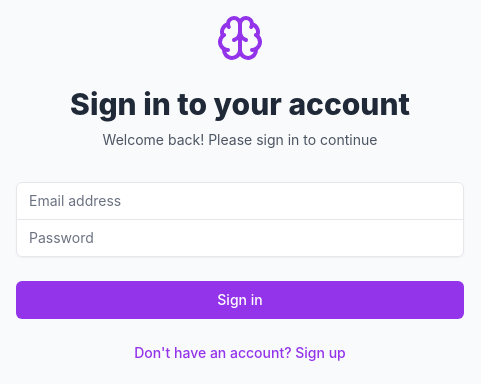
AuthForm › Sign Up › should switch to sign up form
What coordinates should you click on to do the following:
click the button "Don't have an account? Sign up"
I would click on:
 (240, 352)
Its box is [134,342,346,362].
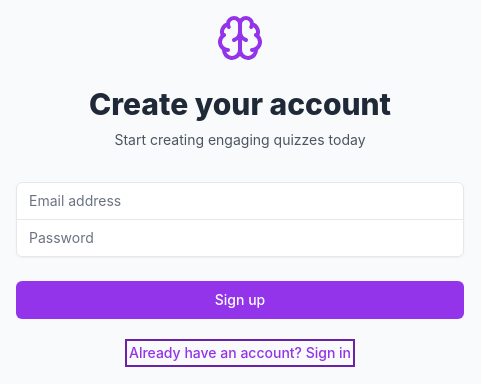
Expected: the heading "Create your account" is shown, [89,86,391,122]
